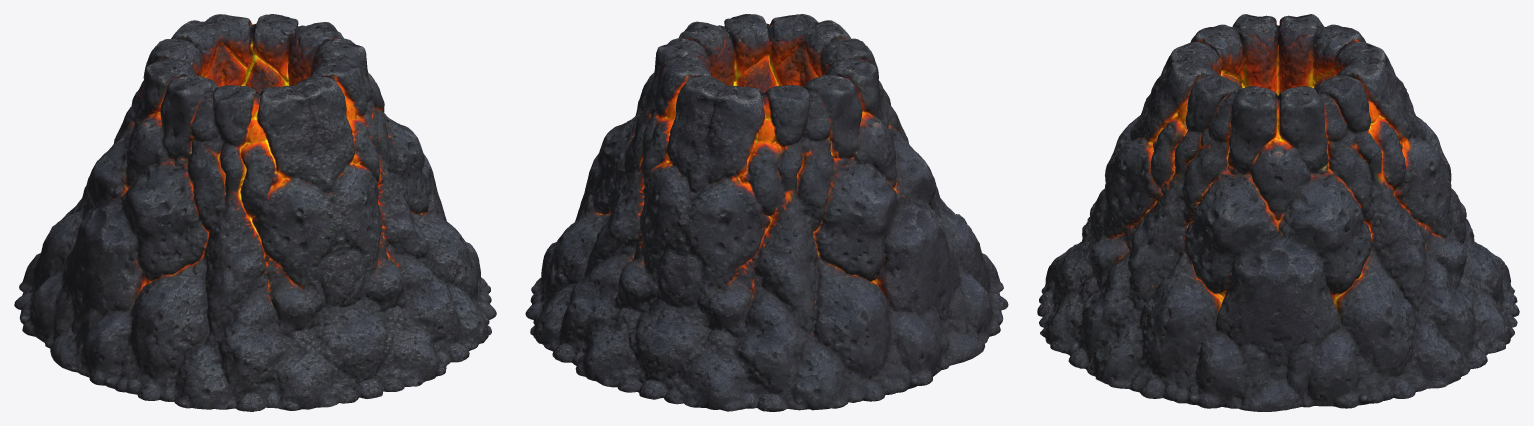
The model's file is prop-volcanic-vent.glb.
3 views of the same model, side by side, from view 1: azimuth 30°, elevation 25°; view 2: azimuth 150°, elevation 25°; view 3: azimuth 270°, elevation 25° (orthographic).
Size of the model in its own units: 1.86 by 1.12 by 1.9.
1 material, 1 textured.
